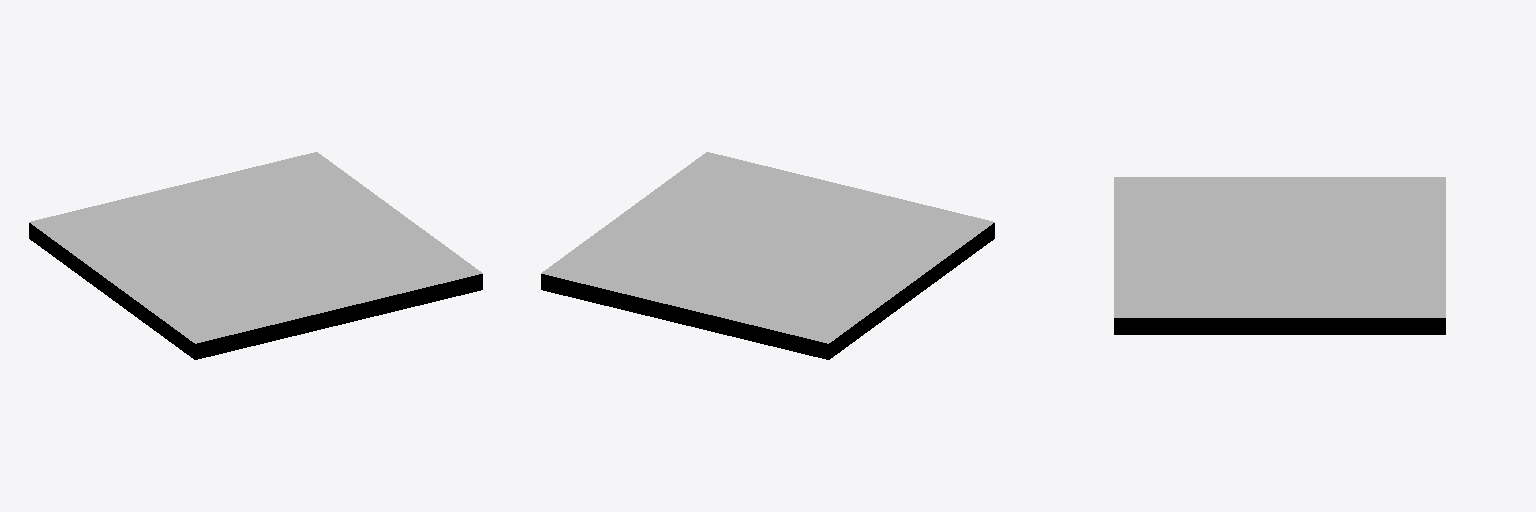
The model's file is Kerd.obj.
The picture shows the model from 3 angles: view 1: azimuth 30°, elevation 25°; view 2: azimuth 150°, elevation 25°; view 3: azimuth 270°, elevation 25°; orthographic projection.
Parts seen in each view (by area): view 1: Cube; view 2: Cube; view 3: Cube.
Boxes of the visible parts, x1=… form: Cube: x1=29, y1=152, x2=482, y2=359; Cube: x1=541, y1=152, x2=994, y2=359; Cube: x1=1114, y1=177, x2=1445, y2=334.
Size of the model in its own units: 10.27 by 0.5578 by 10.27.